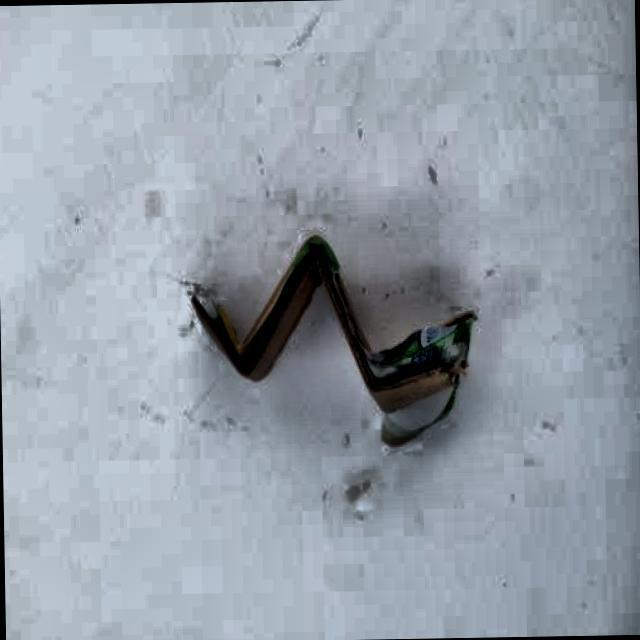cardboard: (186, 230, 478, 426)
